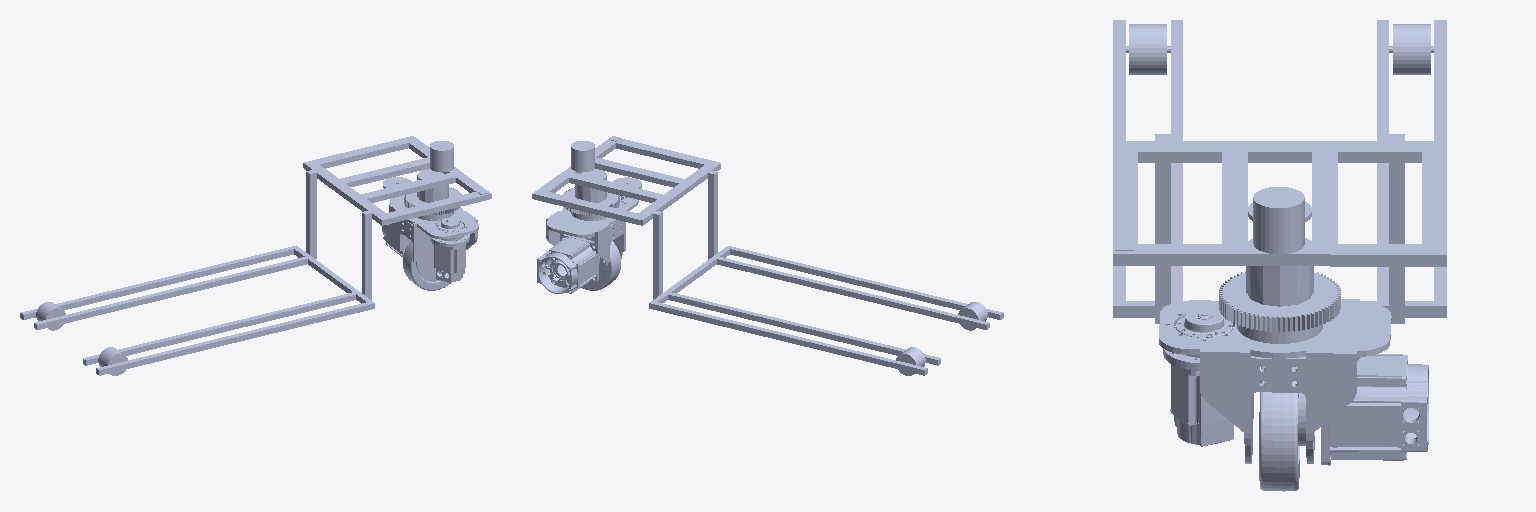
The robot description file, URDF, robot "forkamrtest3":
<?xml version="1.0" encoding="utf-8"?>
<!-- This URDF was automatically created by SolidWorks to URDF Exporter! Originally created by [author] ([email redacted]) 
     Commit Version: 1.6.0-4-g7f85cfe  Build Version: 1.6.7995.38578
     For more information, please see http://wiki.ros.org/sw_urdf_exporter -->
<robot
  name="forkamrtest3">
  <link
    name="base_footprint">
    <inertial>
      <origin
        xyz="-2.22044604925031E-16 -1.11022302462516E-16 0.0150000000000001"
        rpy="0 0 0" />
      <mass
        value="9.42477796076935E-05" />
      <inertia
        ixx="7.0921454154789E-09"
        ixy="1.03652098221875E-56"
        ixz="-2.73196242009683E-42"
        iyy="7.0921454154789E-09"
        iyz="2.54645439948026E-23"
        izz="4.71238898038468E-11" />
    </inertial>
    <visual>
      <origin
        xyz="0 0 0"
        rpy="0 0 0" />
      <geometry>
        <mesh
          filename="package://forkamrtest3/meshes/base_footprint.STL" />
      </geometry>
      <material
        name="">
        <color
          rgba="0.792156862745098 0.819607843137255 0.933333333333333 1" />
      </material>
    </visual>
    <collision>
      <origin
        xyz="0 0 0"
        rpy="0 0 0" />
      <geometry>
        <mesh
          filename="package://forkamrtest3/meshes/base_footprint.STL" />
      </geometry>
    </collision>
  </link>
  <link
    name="base_link">
    <inertial>
      <origin
        xyz="0.46875348596942 0.000343113287662122 0.176433461672969"
        rpy="0 0 0" />
      <mass
        value="5.37682193052439" />
      <inertia
        ixx="0.236486794589605"
        ixy="-0.000892001504283949"
        ixz="-0.224856062792506"
        iyy="0.94960478102618"
        iyz="-0.000244756354225053"
        izz="1.00366495457815" />
    </inertial>
    <visual>
      <origin
        xyz="0 0 0"
        rpy="0 0 0" />
      <geometry>
        <mesh
          filename="package://forkamrtest3/meshes/base_link.STL" />
      </geometry>
      <material
        name="">
        <color
          rgba="0.792156862745098 0.819607843137255 0.933333333333333 1" />
      </material>
    </visual>
    <collision>
      <origin
        xyz="0 0 0"
        rpy="0 0 0" />
      <geometry>
        <mesh
          filename="package://forkamrtest3/meshes/base_link.STL" />
      </geometry>
    </collision>
  </link>
  <joint
    name="base_joint"
    type="fixed">
    <origin
      xyz="-0.84027 0 0.08"
      rpy="0 0 0" />
    <parent
      link="base_footprint" />
    <child
      link="base_link" />
    <axis
      xyz="0 0 0" />
  </joint>
  <link
    name="motor_link">
    <inertial>
      <origin
        xyz="0.00210376812546609 0.0105050648024198 -0.129597911206188"
        rpy="0 0 0" />
      <mass
        value="4.08632554025865" />
      <inertia
        ixx="0.0144898677138344"
        ixy="0.000783428625159998"
        ixz="-7.76005852187133E-05"
        iyy="0.0152877985069575"
        iyz="0.000208365043649313"
        izz="0.0195515217807752" />
    </inertial>
    <visual>
      <origin
        xyz="0 0 0"
        rpy="0 0 0" />
      <geometry>
        <mesh
          filename="package://forkamrtest3/meshes/motor_link.STL" />
      </geometry>
      <material
        name="">
        <color
          rgba="0.792156862745098 0.819607843137255 0.933333333333333 1" />
      </material>
    </visual>
    <collision>
      <origin
        xyz="0 0 0"
        rpy="0 0 0" />
      <geometry>
        <mesh
          filename="package://forkamrtest3/meshes/motor_link.STL" />
      </geometry>
    </collision>
  </link>
  <joint
    name="motor_joint"
    type="revolute">
    <origin
      xyz="0.84027 0 0.216"
      rpy="0 0 0" />
    <parent
      link="base_link" />
    <child
      link="motor_link" />
    <axis
      xyz="0 0 1" />
    <limit lower="-1.57" upper="1.57" effort="5" velocity="10.0"/>
  </joint>
  <link
    name="wheel_link">
    <inertial>
      <origin
        xyz="0.000536849001509632 1.67088707314633E-08 -0.0211602083502366"
        rpy="0 0 0" />
      <mass
        value="1.21637660223564" />
      <inertia
        ixx="0.00444635735525104"
        ixy="1.36195810090993E-06"
        ixz="-9.58866495614166E-05"
        iyy="0.00444225537797136"
        iyz="3.44626993707972E-08"
        izz="0.00822330988727168" />
    </inertial>
    <visual>
      <origin
        xyz="0 0 0"
        rpy="0 0 0" />
      <geometry>
        <mesh
          filename="package://forkamrtest3/meshes/wheel_link.STL" />
      </geometry>
      <material
        name="">
        <color
          rgba="0.792156862745098 0.819607843137255 0.933333333333333 1" />
      </material>
    </visual>
    <collision>
      <origin
        xyz="0 0 0"
        rpy="0 0 0" />
      <geometry>
        <mesh
          filename="package://forkamrtest3/meshes/wheel_link.STL" />
      </geometry>
    </collision>
  </link>
  <joint
    name="wheel_joint"
    type="continuous">
    <origin
      xyz="-0.0005453 -0.021493 -0.23"
      rpy="1.5708 0 0" />
    <parent
      link="motor_link" />
    <child
      link="wheel_link" />
    <axis
      xyz="0.025363 0 -0.99968" />
  </joint>
  <link
    name="lroller_link">
    <inertial>
      <origin
        xyz="0 -0.0299999999999999 -2.22044604925031E-16"
        rpy="0 0 0" />
      <mass
        value="0.296880505764236" />
      <inertia
        ixx="0.000209671857195992"
        ixy="3.77401154477326E-21"
        ixz="-1.45520456793684E-21"
        iyy="0.000241215410933442"
        iyz="-1.72191555296234E-38"
        izz="0.000209671857195992" />
    </inertial>
    <visual>
      <origin
        xyz="0 0 0"
        rpy="0 0 0" />
      <geometry>
        <mesh
          filename="package://forkamrtest3/meshes/lroller_link.STL" />
      </geometry>
      <material
        name="">
        <color
          rgba="0.792156862745098 0.819607843137255 0.933333333333333 1" />
      </material>
    </visual>
    <collision>
      <origin
        xyz="0 0 0"
        rpy="0 0 0" />
      <geometry>
        <mesh
          filename="package://forkamrtest3/meshes/lroller_link.STL" />
      </geometry>
    </collision>
  </link>
  <joint
    name="lroller_joint"
    type="continuous">
    <origin
      xyz="-0.49533 -0.175 0.01"
      rpy="0 0 0" />
    <parent
      link="base_link" />
    <child
      link="lroller_link" />
    <axis
      xyz="0 -1 0" />
  </joint>
  <link
    name="rroller_link">
    <inertial>
      <origin
        xyz="-8.32667268468867E-17 0.0299999999999999 -2.22044604925031E-16"
        rpy="0 0 0" />
      <mass
        value="0.296880505764235" />
      <inertia
        ixx="0.000209671857195991"
        ixy="-8.97117636505482E-20"
        ixz="1.76936437307522E-33"
        iyy="0.000241215410933441"
        iyz="-1.18430182019675E-19"
        izz="0.000209671857195991" />
    </inertial>
    <visual>
      <origin
        xyz="0 0 0"
        rpy="0 0 0" />
      <geometry>
        <mesh
          filename="package://forkamrtest3/meshes/rroller_link.STL" />
      </geometry>
      <material
        name="">
        <color
          rgba="0.792156862745098 0.819607843137255 0.933333333333333 1" />
      </material>
    </visual>
    <collision>
      <origin
        xyz="0 0 0"
        rpy="0 0 0" />
      <geometry>
        <mesh
          filename="package://forkamrtest3/meshes/rroller_link.STL" />
      </geometry>
    </collision>
  </link>
  <joint
    name="rroller_joint"
    type="continuous">
    <origin
      xyz="-0.49533 0.175 0.01"
      rpy="0 0 0" />
    <parent
      link="base_link" />
    <child
      link="rroller_link" />
    <axis
      xyz="0 1 0" />
  </joint>
  <link
    name="laser_link">
    <inertial>
      <origin
        xyz="0 -2.67230682027275E-13 -0.0394999999999999"
        rpy="0 0 0" />
      <mass
        value="0.39709731141375" />
      <inertia
        ixx="0.000365362617943268"
        ixy="6.5253044679986E-52"
        ixz="-1.21245706409418E-36"
        iyy="0.000365362617943268"
        iyz="6.46109837352296E-20"
        izz="0.000317677849131001" />
    </inertial>
    <visual>
      <origin
        xyz="0 0 0"
        rpy="0 0 0" />
      <geometry>
        <mesh
          filename="package://forkamrtest3/meshes/laser_link.STL" />
      </geometry>
      <material
        name="">
        <color
          rgba="0.792156862745098 0.819607843137255 0.933333333333333 1" />
      </material>
    </visual>
    <collision>
      <origin
        xyz="0 0 0"
        rpy="0 0 0" />
      <geometry>
        <mesh
          filename="package://forkamrtest3/meshes/laser_link.STL" />
      </geometry>
    </collision>
  </link>
  <joint
    name="laser_joint"
    type="fixed">
    <origin
      xyz="0.87274 -0.0013109 0.394"
      rpy="0 0 0" />
    <parent
      link="base_link" />
    <child
      link="laser_link" />
    <axis
      xyz="0 0 0" />
  </joint>
  <link
    name="imu">
    <inertial>
      <origin
        xyz="0 0 -0.00149999999999983"
        rpy="0 0 0" />
      <mass
        value="0.00269999999999989" />
      <inertia
        ixx="2.04524999999992E-07"
        ixy="9.62348012692116E-24"
        ixz="8.27180612546983E-25"
        iyy="2.04524999999989E-07"
        iyz="-4.79103010778501E-25"
        izz="4.04999999999981E-07" />
    </inertial>
    <visual>
      <origin
        xyz="0 0 0"
        rpy="0 0 0" />
      <geometry>
        <mesh
          filename="package://forkamrtest3/meshes/imu.STL" />
      </geometry>
      <material
        name="">
        <color
          rgba="0.792156862745098 0.819607843137255 0.933333333333333 1" />
      </material>
    </visual>
    <collision>
      <origin
        xyz="0 0 0"
        rpy="0 0 0" />
      <geometry>
        <mesh
          filename="package://forkamrtest3/meshes/imu.STL" />
      </geometry>
    </collision>
  </link>
  <joint
    name="imu_joint"
    type="fixed">
    <origin
      xyz="0.89005 -0.24069 0.3195"
      rpy="0 0 0" />
    <parent
      link="base_link" />
    <child
      link="imu" />
    <axis
      xyz="0 0 0" />
  </joint>
   <gazebo>
     <!--Modified plugin:-->
     <plugin name="tricycle_drive_controller" filename="libTricycleDriveModPlugin.so">        
         <rosDebugLevel>Debug</rosDebugLevel>
         <publishWheelTF>false</publishWheelTF>
         <robotNamespace>/forkamrtest3</robotNamespace>
         <publishWheelJointState>true</publishWheelJointState>
         <steeringJoint>motor_joint</steeringJoint>
         <actuatedWheelJoint>wheel_joint</actuatedWheelJoint>
         <actuatedWheelDiameter>0.3</actuatedWheelDiameter>
         <encoderWheelLeftJoint>wheel_joint</encoderWheelLeftJoint>
         <encoderWheelRightJoint>wheel_joint</encoderWheelRightJoint>
         <encoderWheelDiameter>0.3</encoderWheelDiameter>
         <encoderWheelSeparation>0.6</encoderWheelSeparation>
         <commandTopic>cmd_vel</commandTopic>
         <odometryTopic>odom</odometryTopic>
         <odometryFrame>odom</odometryFrame>
         <odometrySource>world</odometrySource>
         <robotBaseFrame>base_footprint</robotBaseFrame>
         <updateRate>10.0</updateRate>
         <wheelAcceleration>2</wheelAcceleration>
         <wheelDeceleration>5</wheelDeceleration>
         <wheelSpeedTolerance>0.05</wheelSpeedTolerance>
         <wheelTorque>10</wheelTorque>
         <steeringSpeed>0.3</steeringSpeed>
         <steeringAngleTolerance>0.02</steeringAngleTolerance>
         <steeringAngleLimit>0.88</steeringAngleLimit>
     </plugin>
   </gazebo>

    <gazebo>
    <plugin name="imu_plugin" filename="libgazebo_ros_imu.so">
      <alwaysOn>true</alwaysOn>
      <bodyName>imu</bodyName>
      <frameName>imu</frameName>
      <robotNamespace>/forkamrtest3</robotNamespace>
      <topicName>imu</topicName>
      <serviceName>imu_service</serviceName>
      <gaussianNoise>0.0</gaussianNoise>
      <updateRate>0</updateRate>
      <imu>
        <noise>
          <type>gaussian</type>
          <rate>
            <mean>0.0</mean>
            <stddev>2e-4</stddev>
            <bias_mean>0.0000075</bias_mean>
            <bias_stddev>0.0000008</bias_stddev>
          </rate>
          <accel>
            <mean>0.0</mean>
            <stddev>1.7e-2</stddev>
            <bias_mean>0.1</bias_mean>
            <bias_stddev>0.001</bias_stddev>
          </accel>
        </noise>
      </imu>
    </plugin>
  </gazebo>
  
  <gazebo reference="laser_link">
    <material>Gazebo/FlatBlack</material>
    <sensor type="ray" name="lds_lfcd_sensor">
      <pose>0 0 0 0 0 0</pose>
      <visualize>true</visualize>
      <update_rate>5</update_rate>
      <ray>
        <scan>

          <horizontal>
            <samples>760</samples>
            <resolution>1</resolution>
            <min_angle>-2.2</min_angle>
            <max_angle>1.57</max_angle>
          </horizontal>

        </scan>
        <range>
          <min>0.120</min>
          <max>5.5</max>
          <resolution>0.015</resolution>
        </range>
        <noise>
          <type>gaussian</type>
          <mean>0.0</mean>
          <stddev>0.01</stddev>
        </noise>
      </ray>
      <plugin name="gazebo_ros_lds_lfcd_controller" filename="libgazebo_ros_laser.so">
        <topicName>/scan</topicName>
        <frameName>laser_link</frameName>
      </plugin>
    </sensor>
  </gazebo>
</robot>

--- What the picture shows (computed from the rendered views, not written in the file) ---
The picture shows the robot from 3 angles, left to right: view 1: azimuth 30°, elevation 25°; view 2: azimuth 150°, elevation 25°; view 3: azimuth 270°, elevation 25°; orthographic projection.
Robot: forkamrtest3 — 8 links, 7 joints (1 revolute, 3 continuous, 3 fixed); root link base_footprint; default pose: all joints at 0.
Visible links, largest first — view 1: base_link, motor_link, laser_link, wheel_link; view 2: base_link, motor_link, laser_link, wheel_link; view 3: base_link, motor_link, wheel_link, laser_link, lroller_link, rroller_link.
Link boxes in pixels (bbox=[...]): base_link: bbox=[20, 136, 491, 375]; motor_link: bbox=[382, 195, 478, 282]; laser_link: bbox=[430, 141, 453, 172]; wheel_link: bbox=[403, 241, 450, 290]; base_link: bbox=[532, 137, 1003, 375]; motor_link: bbox=[537, 195, 638, 293]; laser_link: bbox=[571, 141, 594, 171]; wheel_link: bbox=[581, 241, 620, 290]; base_link: bbox=[1113, 20, 1446, 332]; motor_link: bbox=[1159, 299, 1428, 465]; wheel_link: bbox=[1259, 366, 1299, 491]; laser_link: bbox=[1253, 187, 1304, 253]; lroller_link: bbox=[1129, 24, 1166, 74]; rroller_link: bbox=[1393, 24, 1430, 74].
Bounding box of the posed robot: 1.52 × 0.52 × 0.5088 m (x, y, z).
8 mesh visuals loaded from 8 distinct referenced files (8 binary STL).
